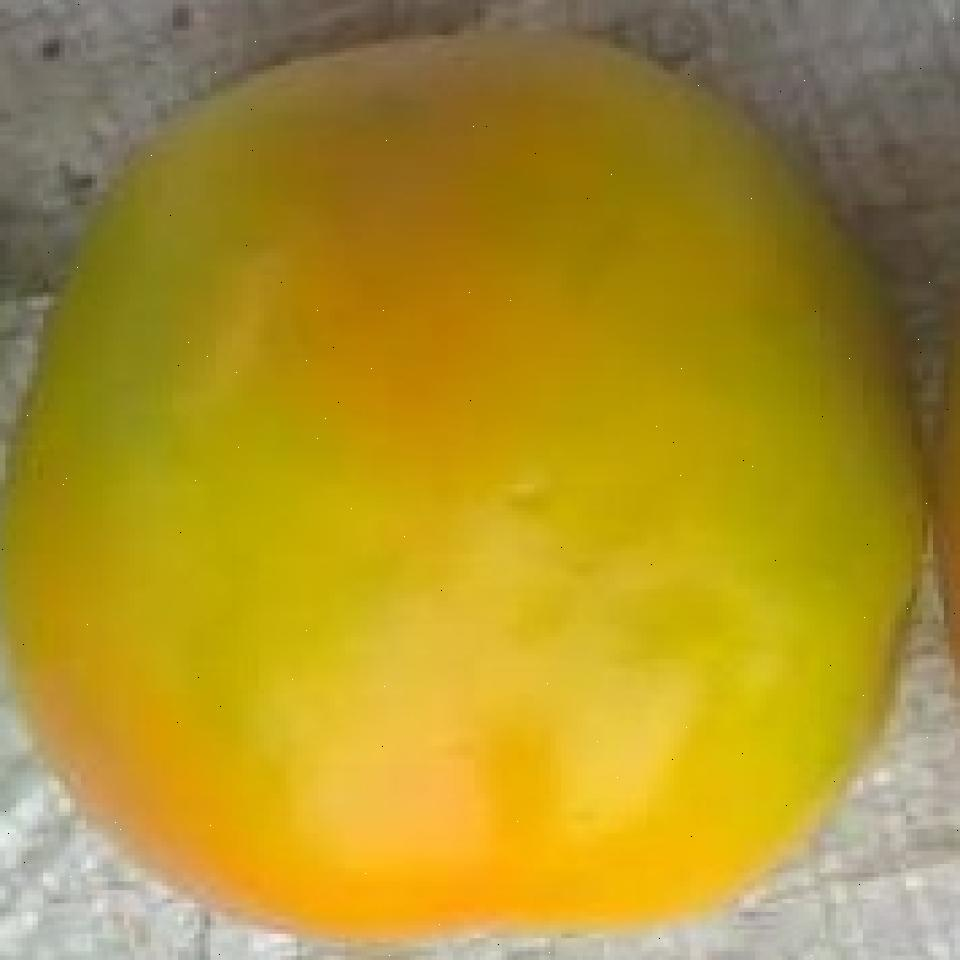Spotted wilt Virus: (0, 35, 933, 951)
